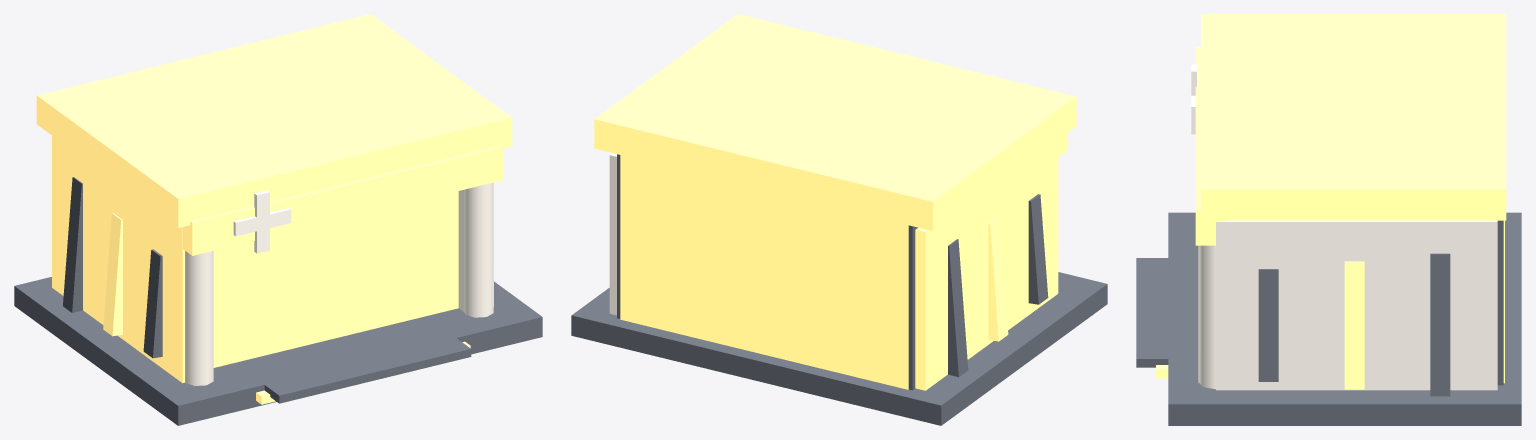
The model's file is triage.glb.
3 views of the same model, side by side, from view 1: azimuth 30°, elevation 25°; view 2: azimuth 150°, elevation 25°; view 3: azimuth 270°, elevation 25° (orthographic). The views are drawn at different scales.
Parts seen in each view (by area): view 1: triage:near:surface:1, triage:far:surface:0, triage:near:surface:0, triage:near:surface:2; view 2: triage:near:surface:1, triage:far:surface:0, triage:near:surface:0, triage:near:surface:2; view 3: triage:near:surface:1, triage:near:surface:2, triage:near:surface:0.
Boxes of the visible parts, x1,y1,x2,y2 form: triage:near:surface:1: (36, 14, 512, 404); triage:far:surface:0: (213, 191, 458, 367); triage:near:surface:0: (14, 177, 542, 425); triage:near:surface:2: (185, 182, 493, 385); triage:near:surface:1: (594, 14, 1076, 390); triage:far:surface:0: (620, 155, 908, 389); triage:near:surface:0: (571, 154, 1107, 425); triage:near:surface:2: (609, 153, 616, 315); triage:near:surface:1: (1156, 14, 1506, 389); triage:near:surface:2: (1191, 64, 1497, 390); triage:near:surface:0: (1136, 212, 1521, 425).
Bounding box in the file's own units: 9.5 × 5.28 × 8.07.
